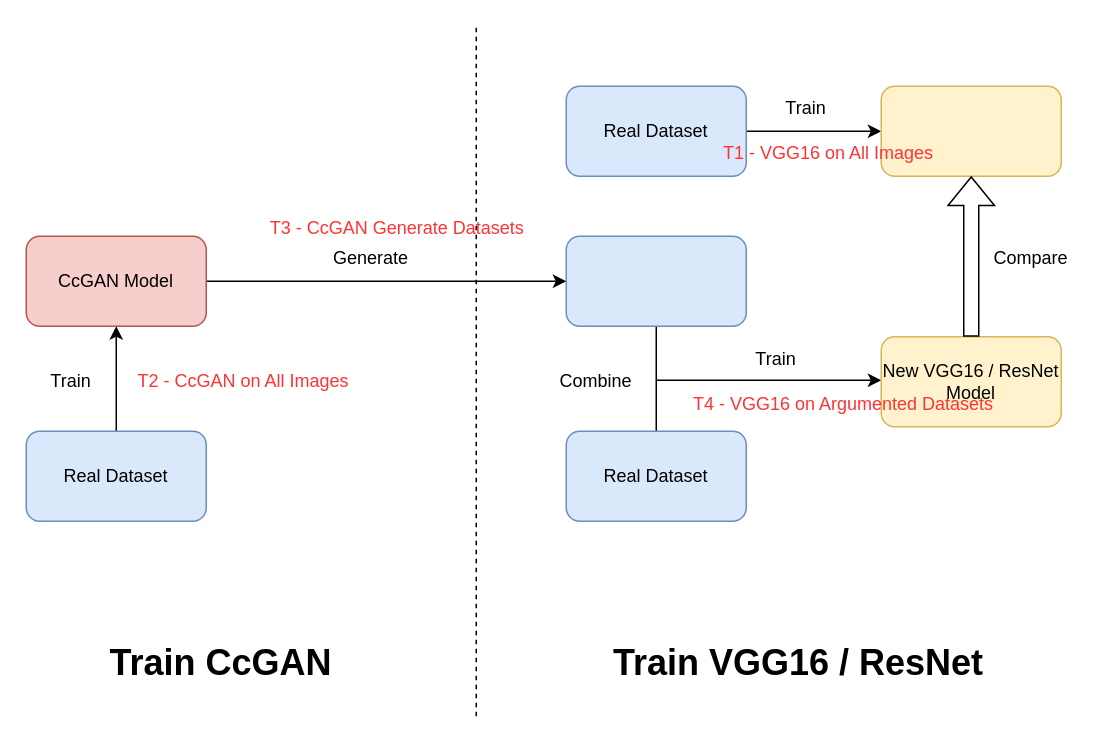
The diagram is 1103 pixels wide and 744 high, and some of its shapes have lost their labels. Each missing label, with the centre of its shape:
"Fake Dataset" goes at pixel 655 280.
"Old VGG16 / ResNet Model" goes at pixel 970 130.
